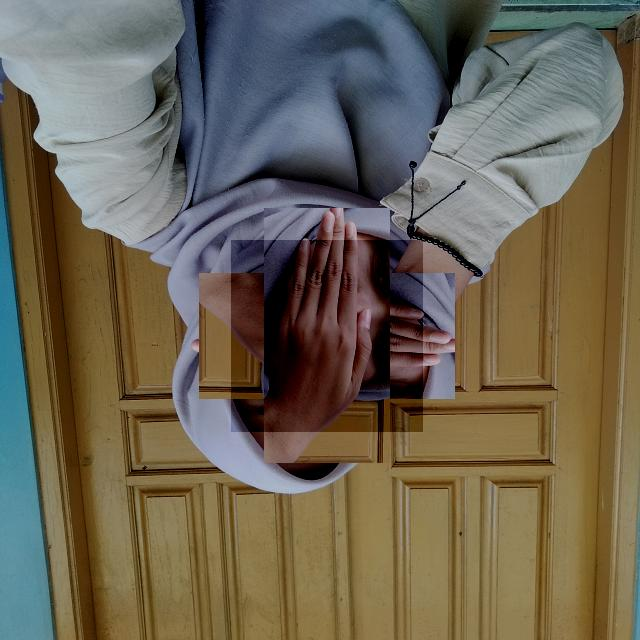buruk: (231, 240, 423, 432)
